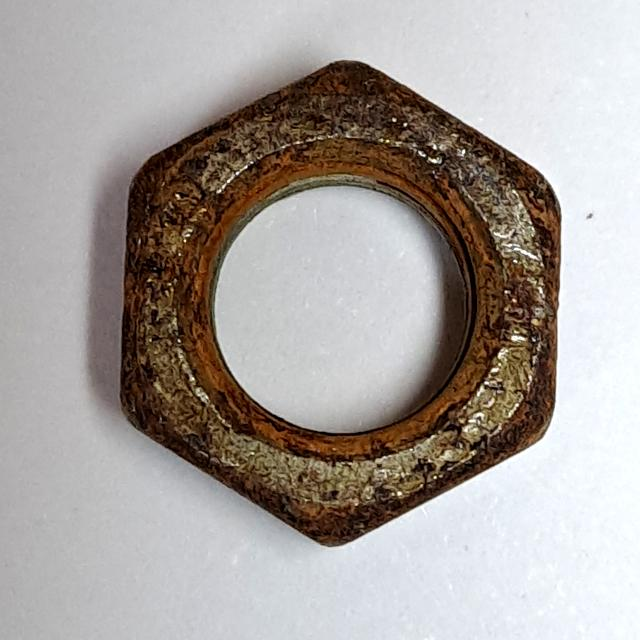Rust: (104, 40, 578, 564)
